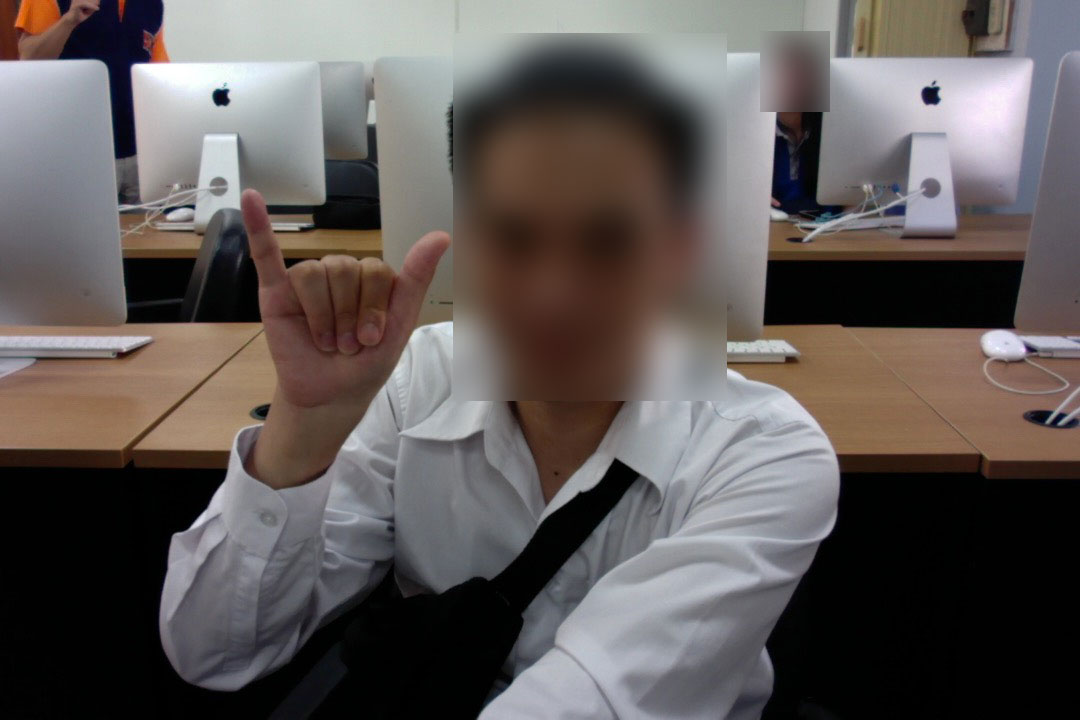yor: (234, 178, 458, 449)
